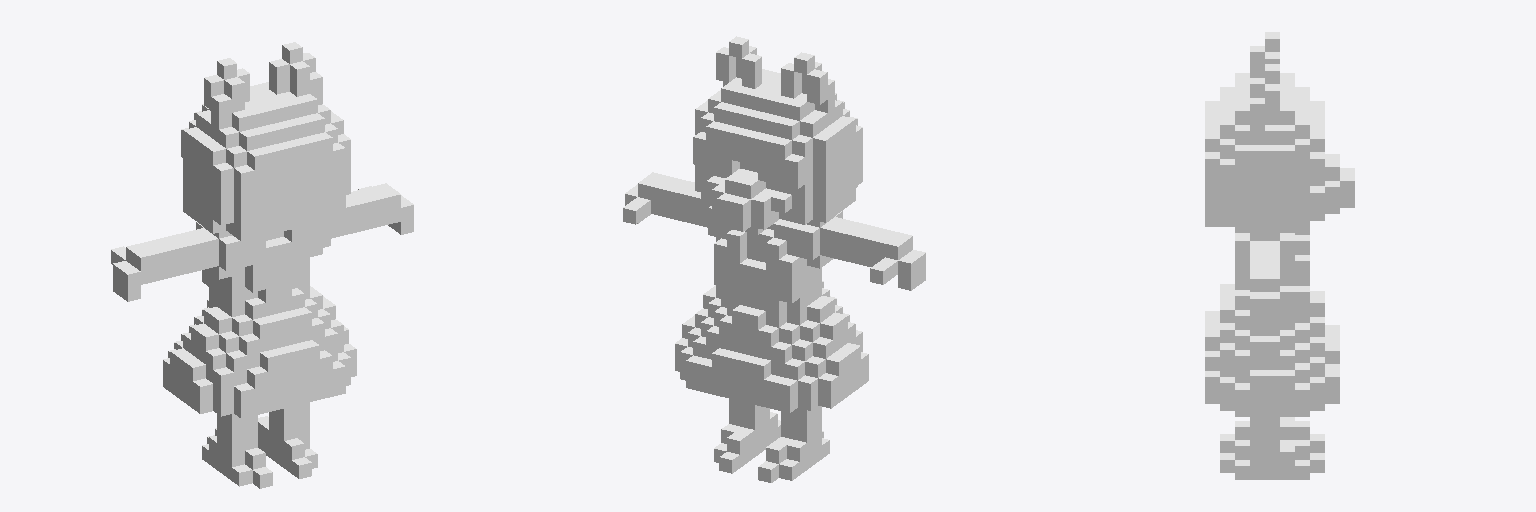
The model's file is agrou.obj.
3 views of the same model, side by side, from view 1: azimuth 30°, elevation 25°; view 2: azimuth 150°, elevation 25°; view 3: azimuth 270°, elevation 25° (orthographic).
Visible parts, largest first — view 1: object 1; view 2: object 1; view 3: object 1.
Boxes of the visible parts, box(x1,y1,x2,y2) form: object 1: box(111, 42, 413, 488); object 1: box(623, 36, 925, 482); object 1: box(1205, 32, 1354, 479).
Size of the model in its own units: 2.2 by 3 by 1.